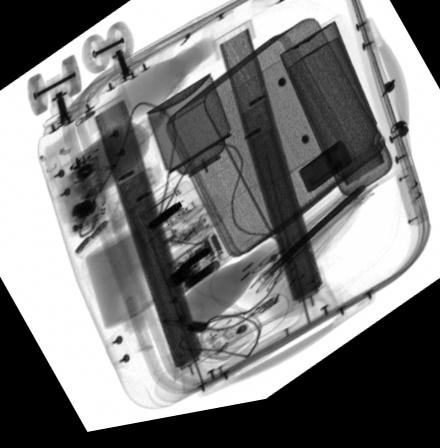Lighter: (299, 153, 352, 204)
Sprayer: (145, 81, 236, 204)
